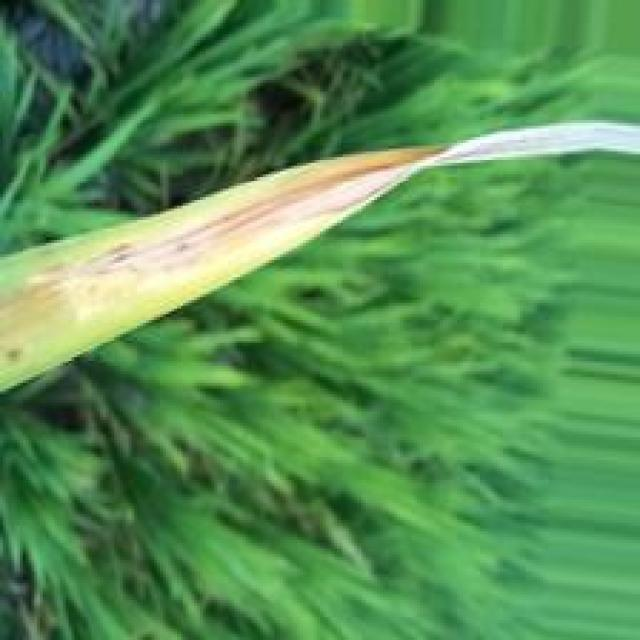Leaf_Scald: (75, 148, 450, 284)
